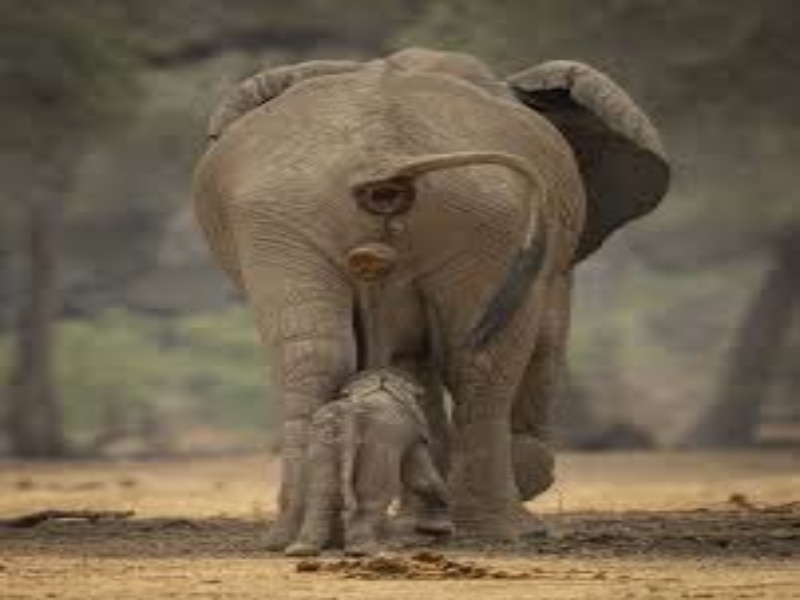elephant: (142, 32, 696, 560)
